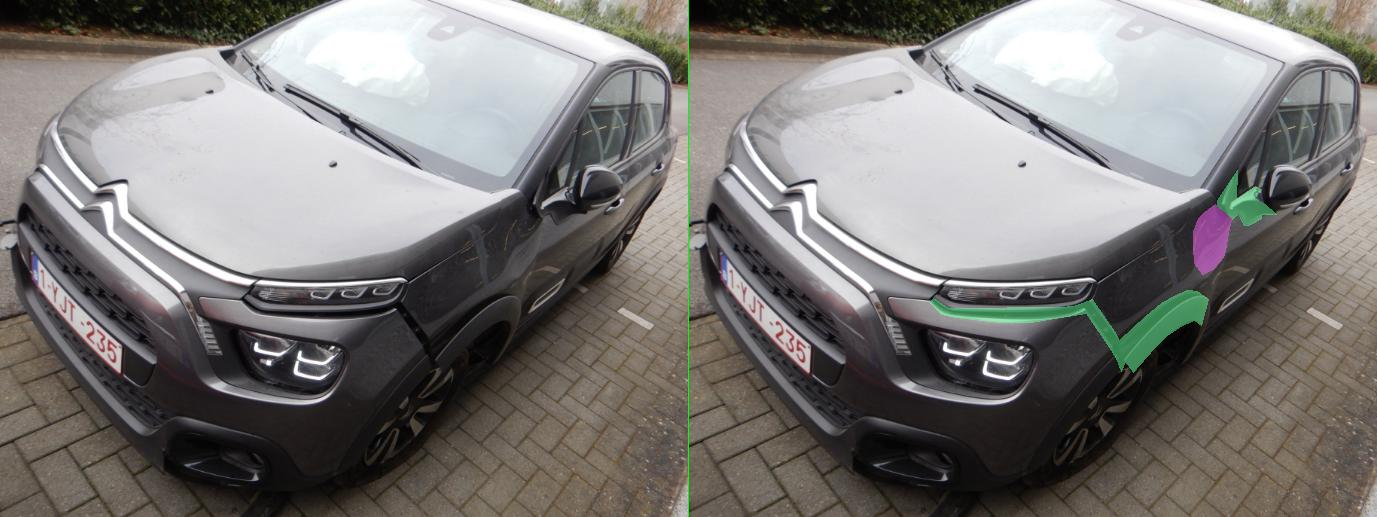Broken part: (482, 290, 1039, 372), (1055, 170, 1175, 227)
Dent: (1009, 204, 1085, 274)
